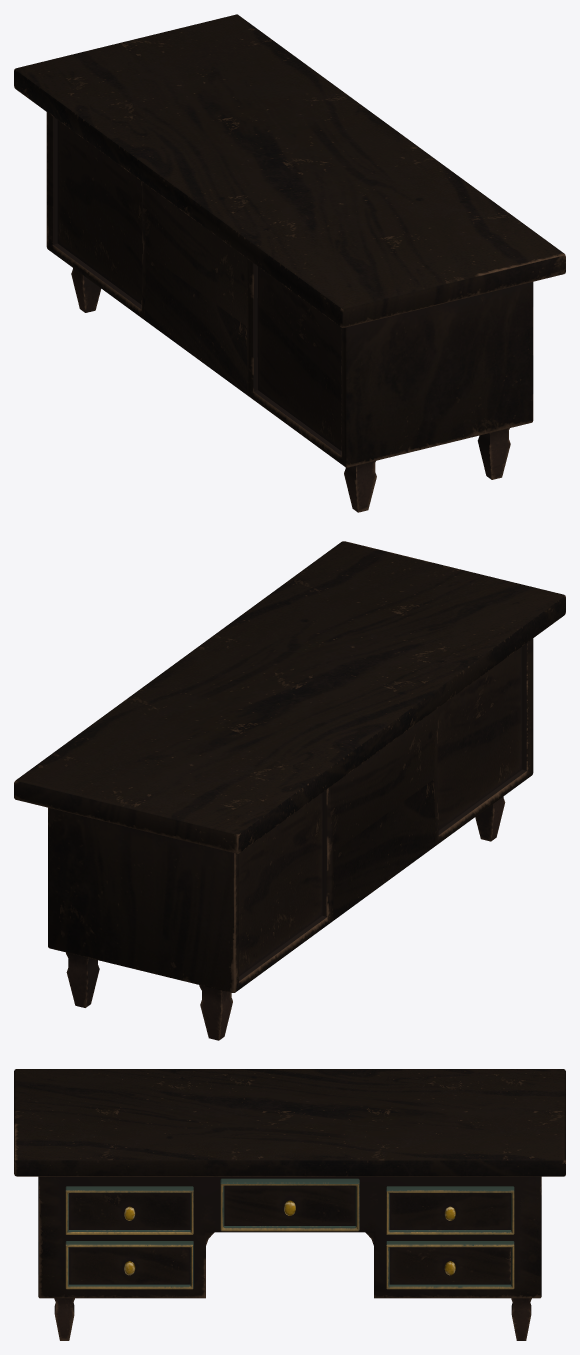
Rendered from Judge_Table.glb.
3 views of the same model, one above another, from view 1: azimuth 30°, elevation 25°; view 2: azimuth 150°, elevation 25°; view 3: azimuth 270°, elevation 25° (orthographic). The views are drawn at different scales.
Parts seen in each view (by area): view 1: Cтолещница; view 2: Cтолещница; view 3: Cтолещница.
Part boxes in pixels (<box>): Cтолещница: <box>14,14,565,512</box>; Cтолещница: <box>14,541,565,1040</box>; Cтолещница: <box>14,1069,565,1340</box>.
Size of the model in its own units: 2.01 by 1.99 by 5.07.
5 materials, 5 textured.
